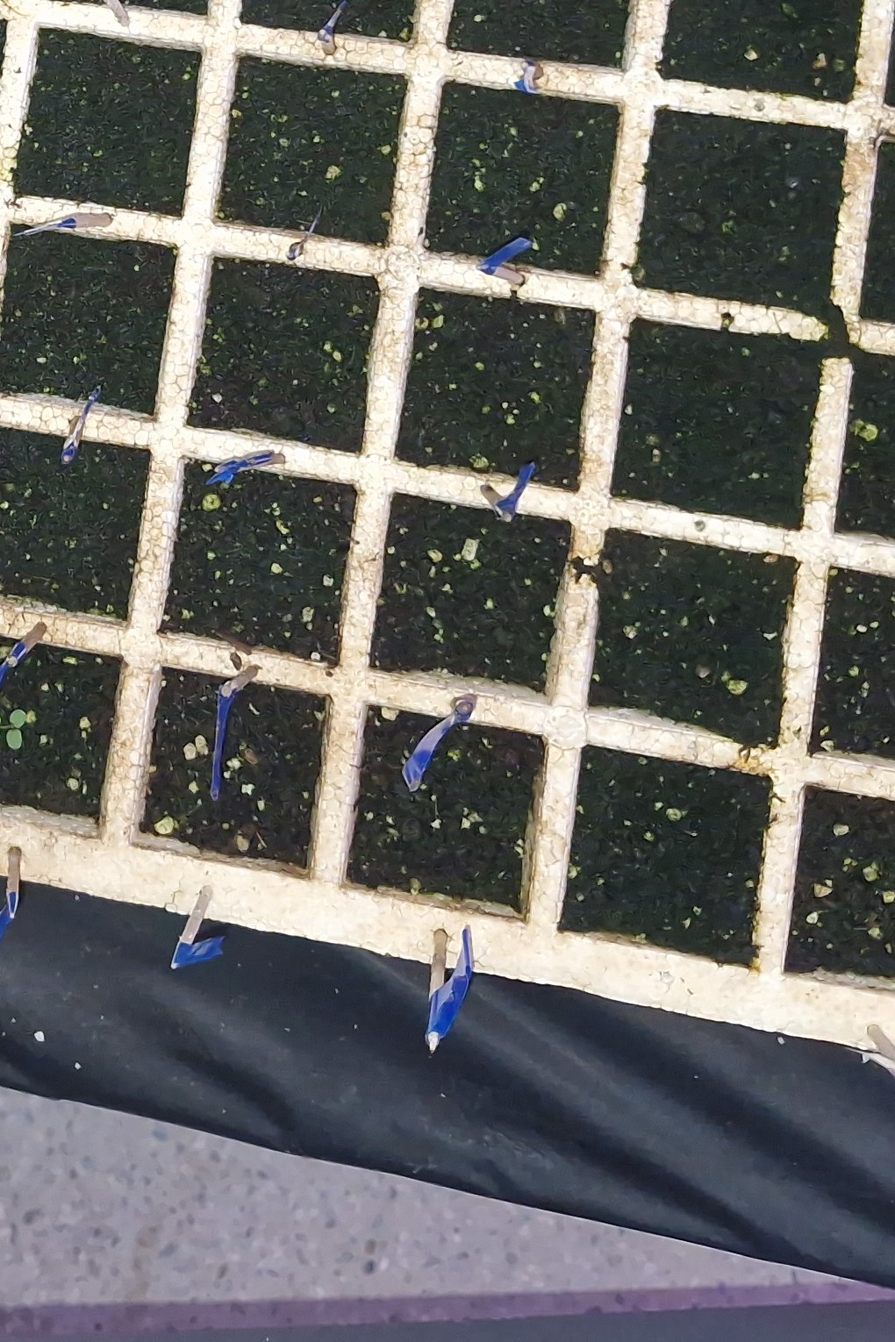Folha: (9, 710, 27, 728), (7, 729, 21, 749)
